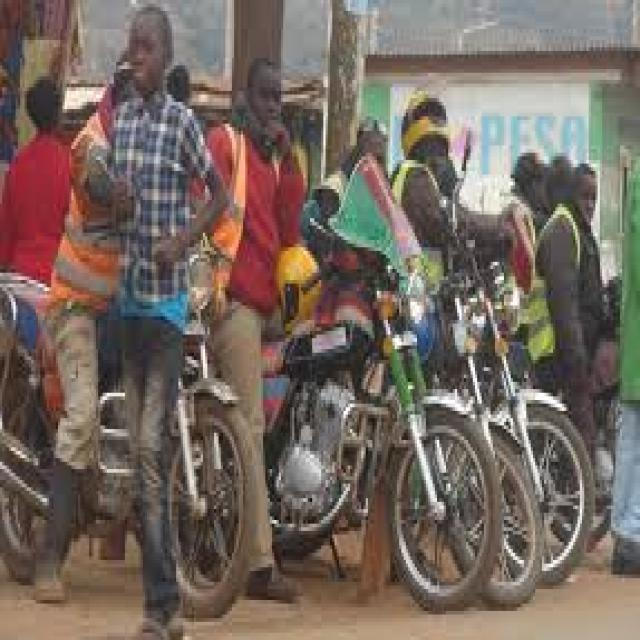bodaboda: (238, 170, 512, 634), (0, 237, 262, 640)
